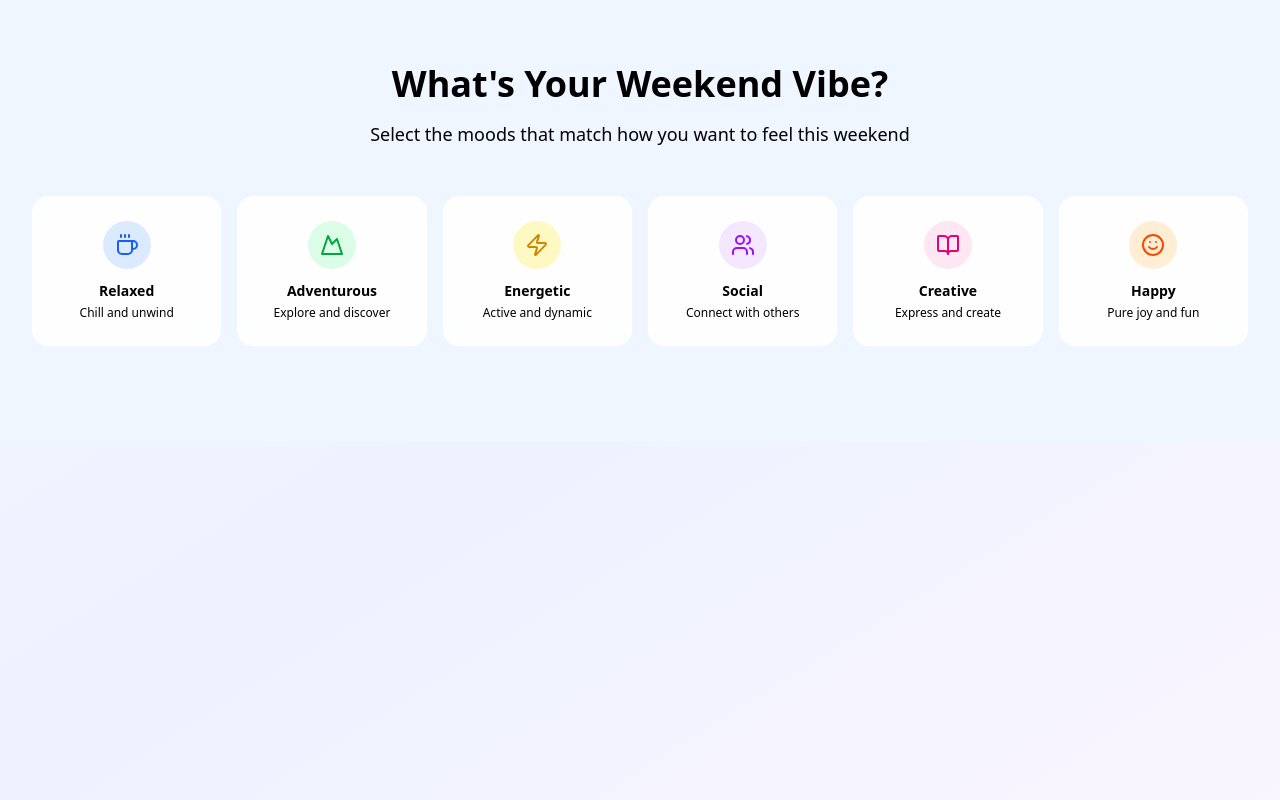
Test: MoodSelector › should show find activities button when moods are selected
Click the text "Relaxed".
click(127, 271)  # box [80,221,174,321]
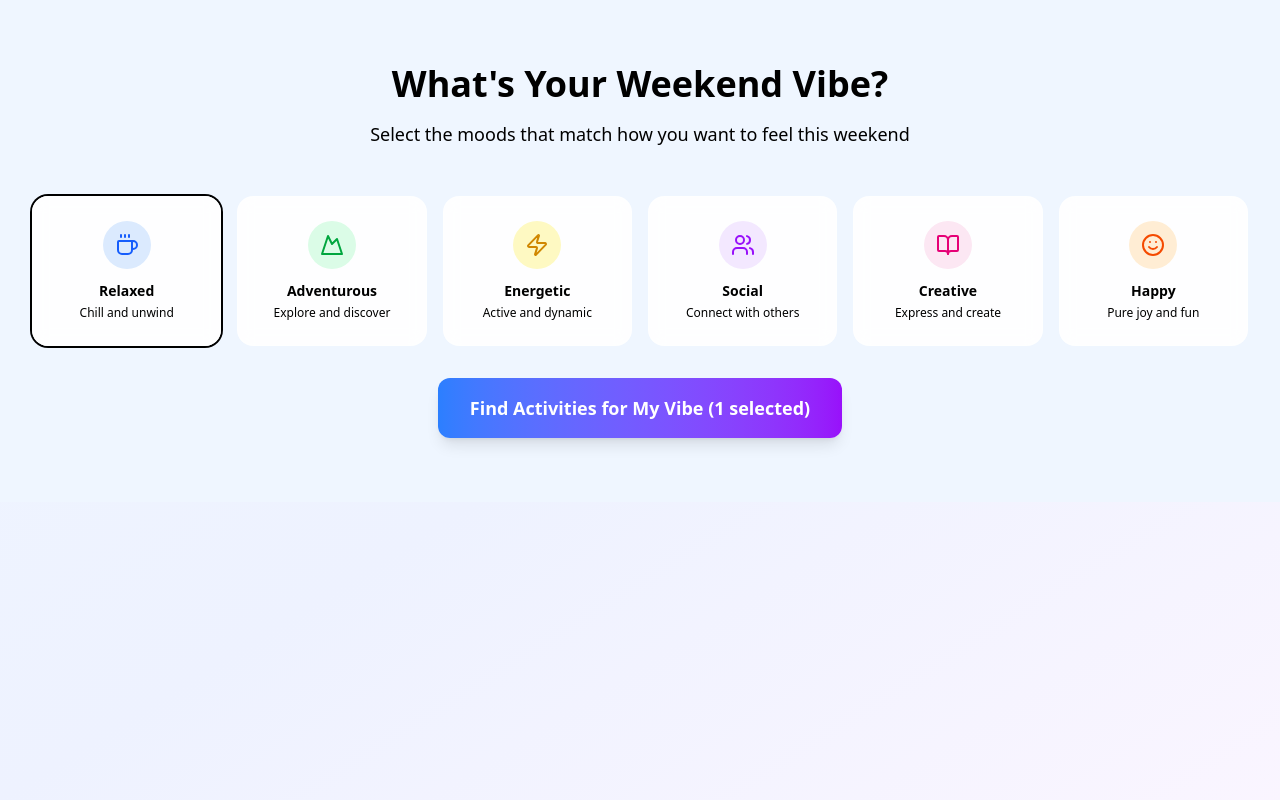
Result: the text "Find Activities for My Vibe (1 selected)" is shown at [470,394,810,422]
